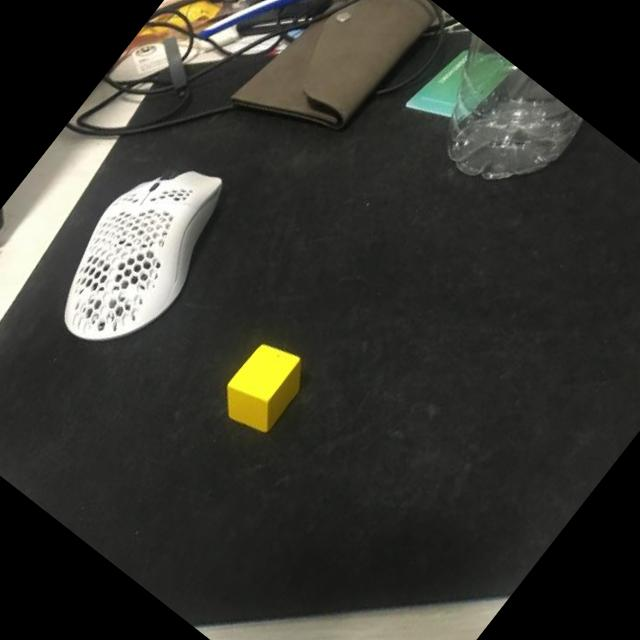yellow: (212, 333, 316, 442)
